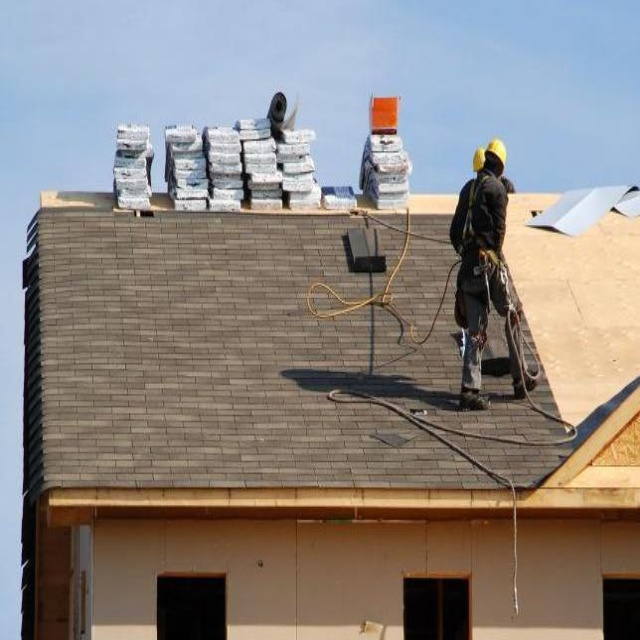Arnes_seguridad: (457, 176, 505, 324)
